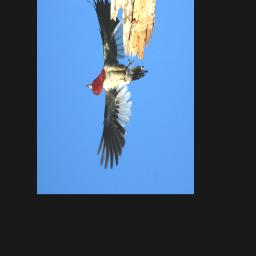Woodpecker: (86, 0, 149, 170)
